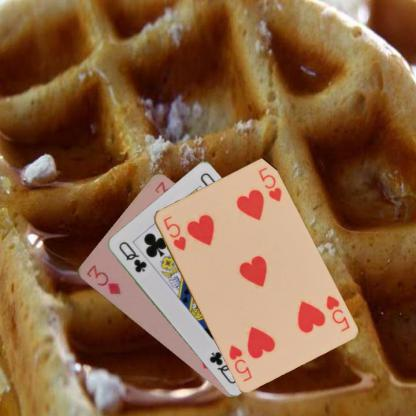3d: (83, 262, 122, 297)
5h: (322, 292, 351, 333), (160, 213, 187, 253)
Qc: (115, 238, 148, 274)
